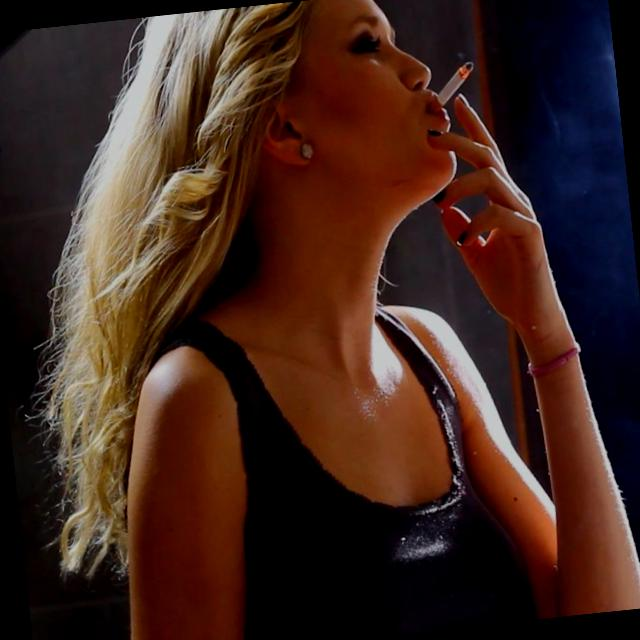cigarette: (418, 54, 482, 125)
